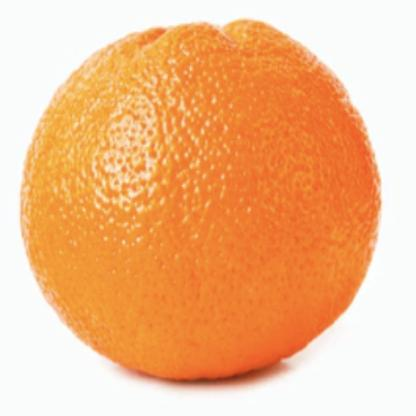fresh: (19, 26, 380, 386)
